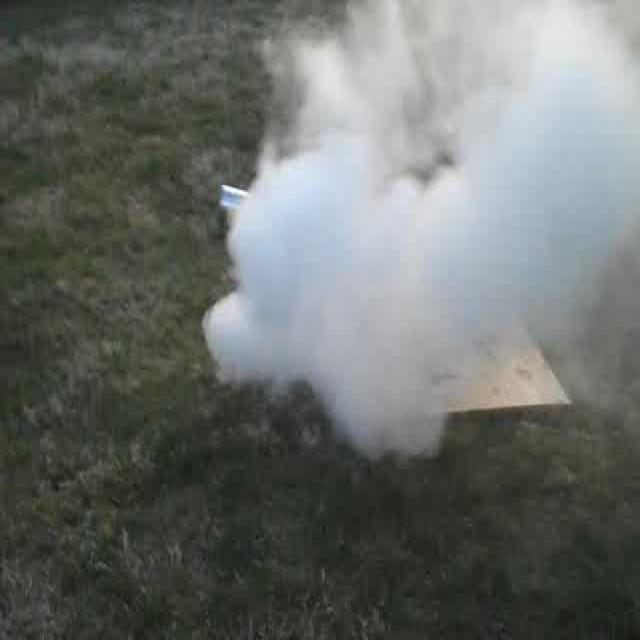Smoke: (234, 24, 632, 438)
